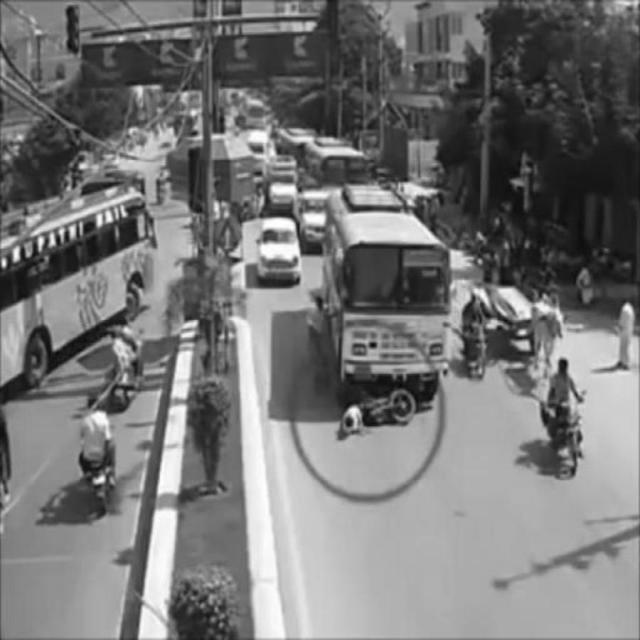accident: (326, 183, 450, 439)
vehicle: (0, 182, 159, 382), (539, 359, 587, 472), (78, 400, 118, 514), (108, 321, 146, 409), (256, 215, 302, 283), (462, 290, 492, 381)
